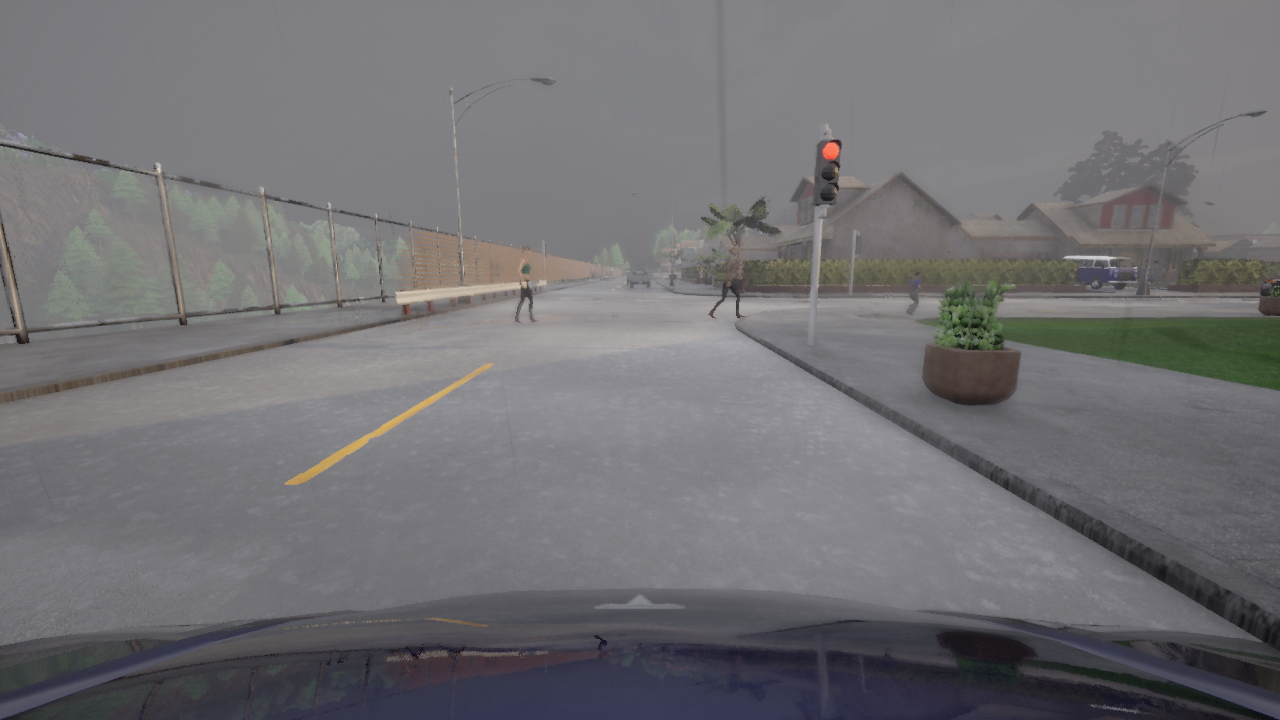cyclist: (0, 588, 1279, 719), (1062, 255, 1137, 288), (1260, 277, 1279, 296), (630, 270, 649, 286), (626, 271, 633, 283), (631, 273, 648, 274)
pedestrian: (708, 245, 745, 319), (513, 245, 540, 323), (906, 270, 923, 315), (1147, 260, 1159, 287)
